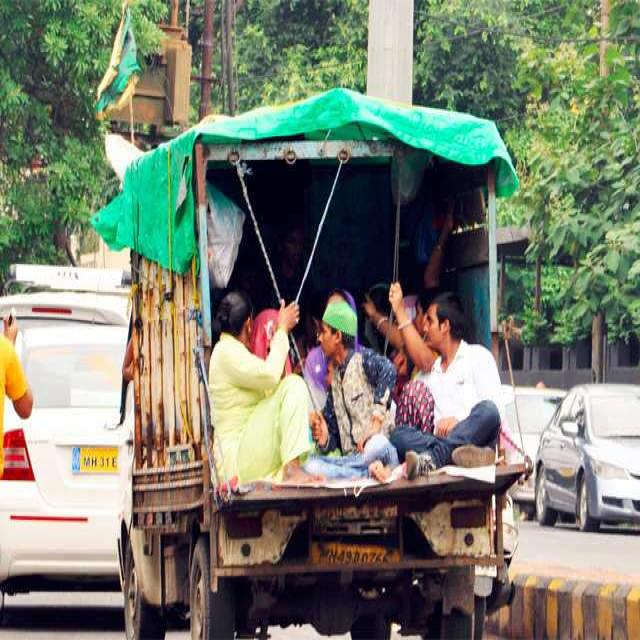car: (0, 265, 132, 606), (535, 387, 640, 530)
truck: (94, 88, 520, 638)
